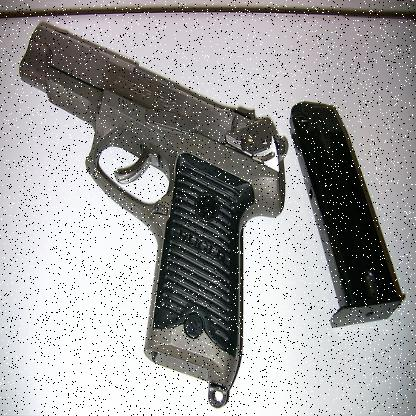pistol: (18, 21, 286, 388)
